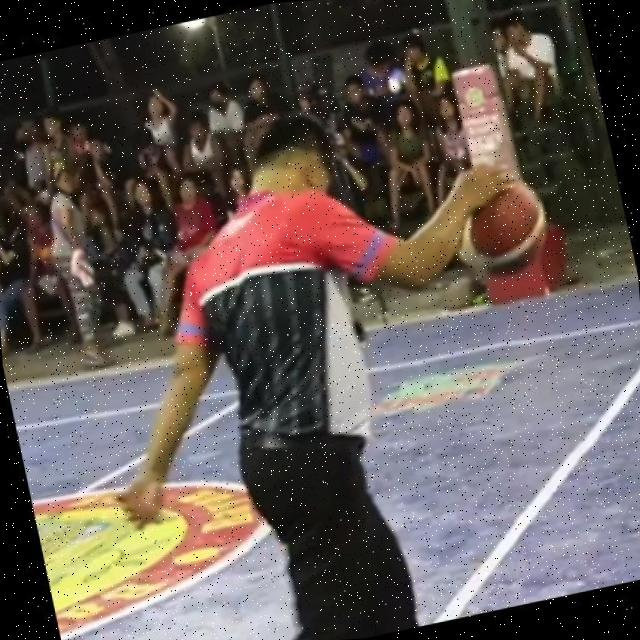ball: (436, 158, 563, 293)
